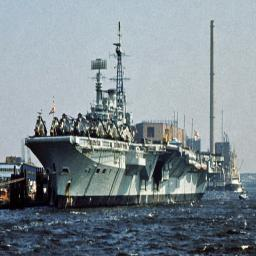Portanaves: (25, 18, 224, 209)
